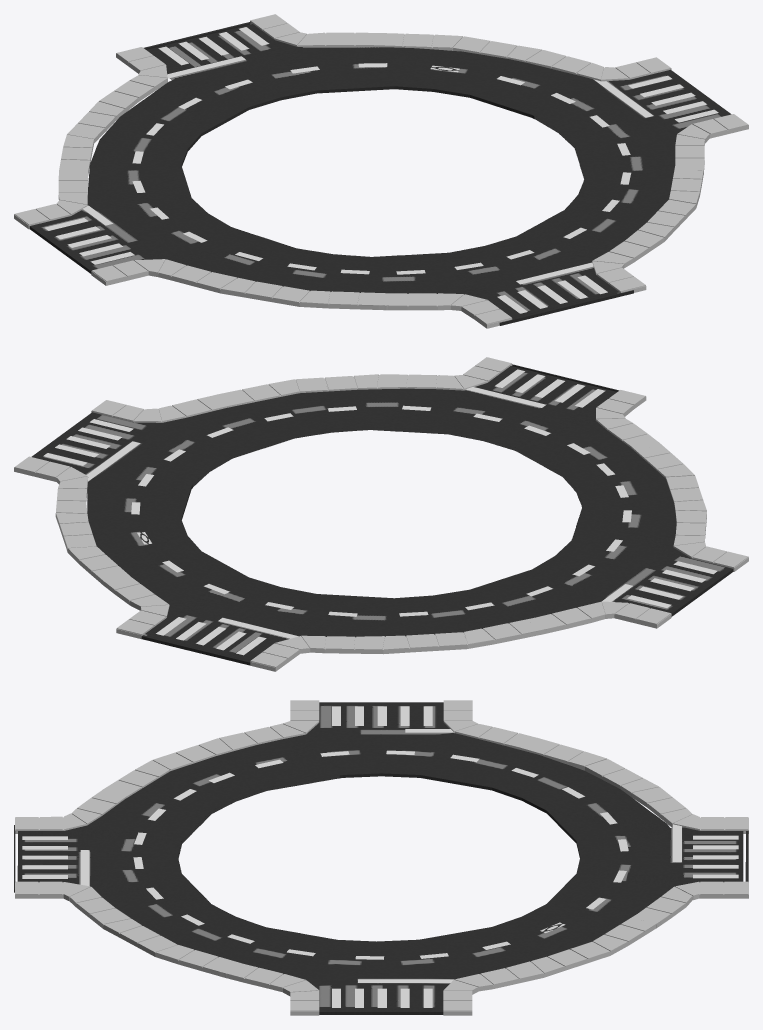
The model's file is Model_Rondo 1.fbx.
3 renders of one model, top to bottom at view 1: azimuth 30°, elevation 25°; view 2: azimuth 150°, elevation 25°; view 3: azimuth 270°, elevation 25°, orthographic.
Parts seen in each view (by area): view 1: Mesh_Rondo, Mesh_chodnik_Rondo; view 2: Mesh_Rondo, Mesh_chodnik_Rondo; view 3: Mesh_Rondo, Mesh_chodnik_Rondo.
Part boxes in pixels (x1=…): Mesh_Rondo: x1=29, y1=22, x2=731, y2=325; Mesh_chodnik_Rondo: x1=14, y1=14, x2=748, y2=328; Mesh_Rondo: x1=31, y1=364, x2=733, y2=665; Mesh_chodnik_Rondo: x1=14, y1=357, x2=748, y2=671; Mesh_Rondo: x1=14, y1=702, x2=748, y2=1014; Mesh_chodnik_Rondo: x1=15, y1=700, x2=748, y2=1015.
Bounding box in the file's own units: 3207 × 24.09 × 3207.
